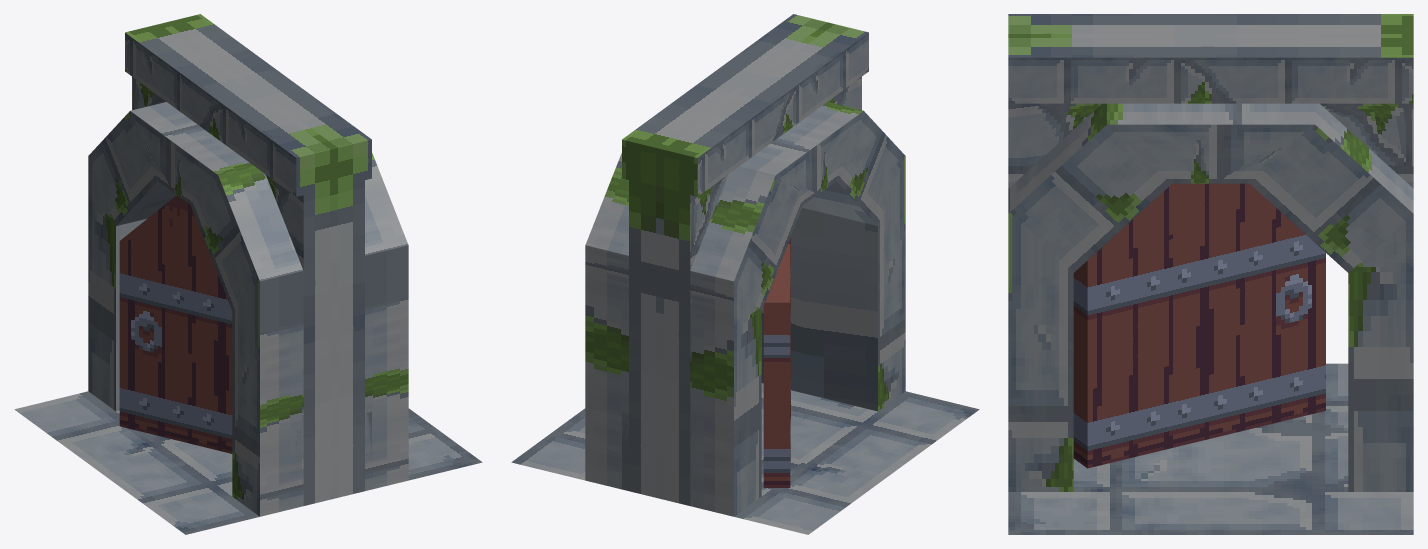
Rendered from Door.fbx.
3 views of the same model, side by side, from view 1: azimuth 30°, elevation 25°; view 2: azimuth 150°, elevation 25°; view 3: azimuth 270°, elevation 25° (orthographic). The views are drawn at different scales.
Visible parts, largest first — view 1: Door; view 2: Door; view 3: Door.
Part boxes in pixels (box(x1,y1,x2,y2)): Door: box(14, 14, 482, 534); Door: box(511, 14, 979, 534); Door: box(1008, 14, 1413, 534).
Size of the model in its own units: 200 by 225 by 200.
